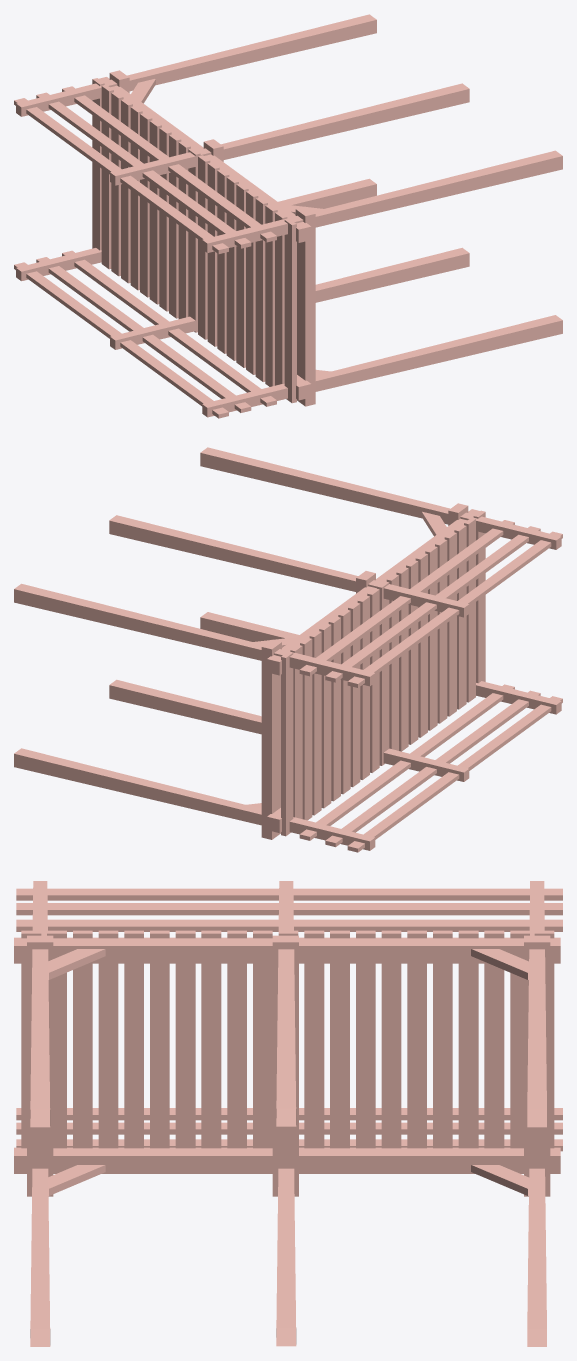
Rendered from Mega_Asset_s_Pack_Cube_269.FBX.
3 views of the same model, one above another, from view 1: azimuth 30°, elevation 25°; view 2: azimuth 150°, elevation 25°; view 3: azimuth 270°, elevation 25° (orthographic). The views are drawn at different scales.
Visible parts, largest first — view 1: Mega_Asset_s_Pack_Cube_269; view 2: Mega_Asset_s_Pack_Cube_269; view 3: Mega_Asset_s_Pack_Cube_269.
Boxes of the visible parts, x1,y1,x2,y2 form: Mega_Asset_s_Pack_Cube_269: (14, 14, 562, 418); Mega_Asset_s_Pack_Cube_269: (14, 447, 562, 852); Mega_Asset_s_Pack_Cube_269: (14, 881, 562, 1346).
Size of what is drawn, in the model's own units: 633 by 636 by 325.
